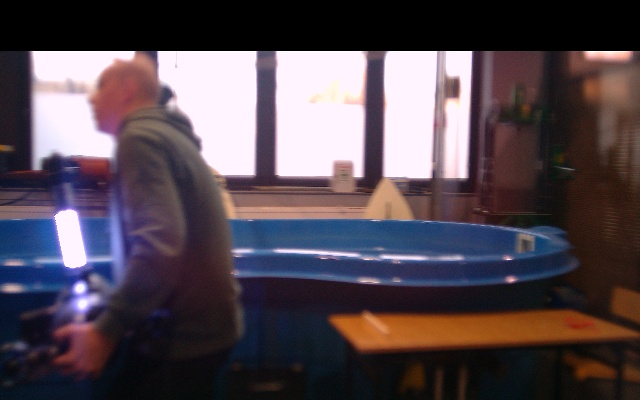white: (55, 209, 88, 268)
